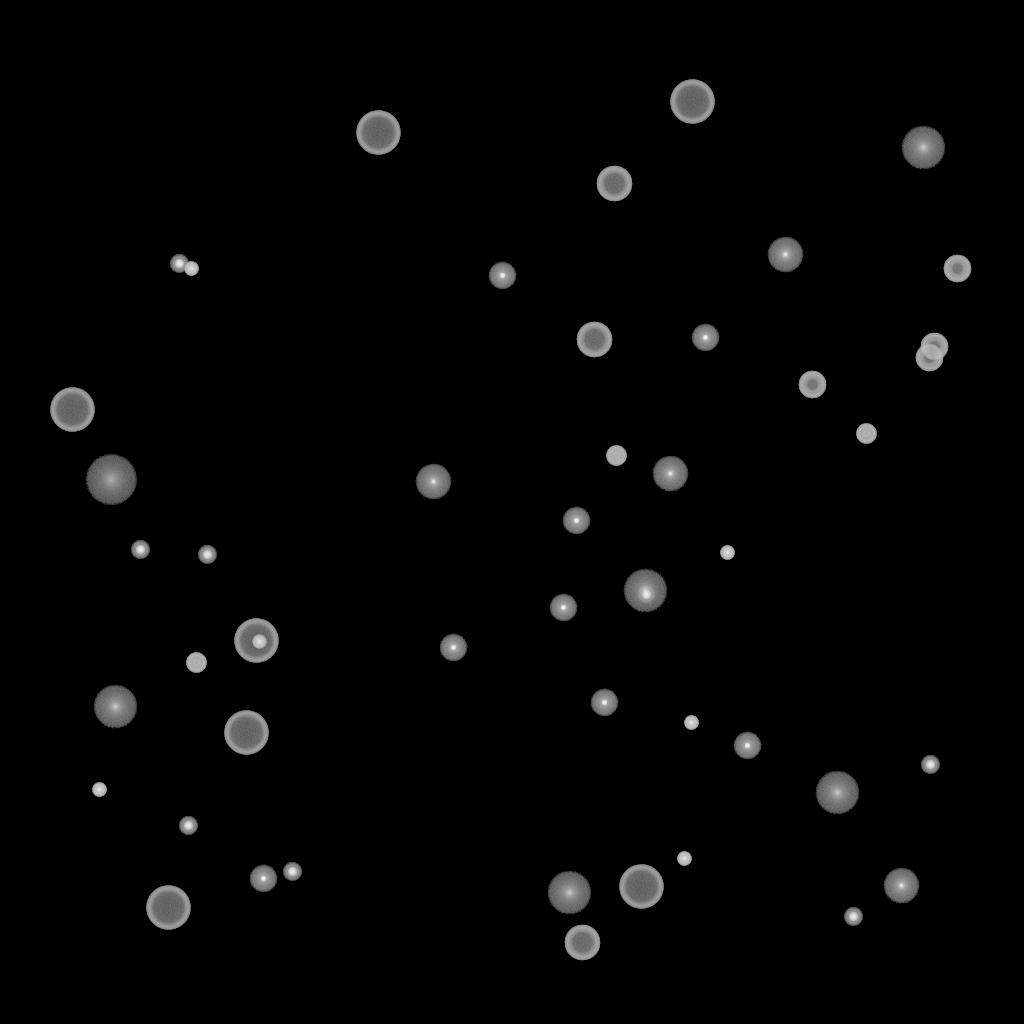depth:-10: (439, 634, 467, 662), (549, 594, 577, 622), (733, 732, 761, 760), (562, 507, 590, 535), (590, 689, 618, 717), (488, 262, 516, 290), (691, 324, 719, 352), (249, 865, 277, 893)
depth:-20: (170, 255, 188, 273), (198, 546, 216, 564), (179, 817, 197, 835), (637, 586, 655, 604), (921, 756, 939, 774), (131, 541, 149, 559), (283, 863, 301, 881), (844, 908, 862, 926)
depth:-30: (252, 635, 266, 649), (720, 546, 734, 560), (92, 783, 106, 797), (684, 716, 698, 730), (677, 852, 691, 866), (184, 262, 198, 276)
depth:-40: (186, 653, 206, 673), (856, 424, 876, 444), (606, 446, 626, 466)
depth:-50: (798, 371, 826, 399), (943, 255, 971, 283), (920, 333, 948, 361), (915, 344, 943, 372)
depth:-60: (596, 166, 632, 202), (564, 925, 600, 961), (576, 322, 612, 358)
depth:-70: (146, 886, 190, 930), (619, 865, 663, 909), (670, 80, 714, 124), (224, 711, 268, 755), (50, 388, 94, 432), (356, 111, 400, 155), (234, 619, 278, 663)
depth:0: (652, 456, 688, 492), (415, 464, 451, 500), (883, 868, 919, 904), (767, 237, 803, 273)
depth:10: (623, 569, 667, 613), (901, 126, 945, 170), (547, 871, 591, 915), (93, 685, 137, 729), (815, 771, 859, 815)
depth:20: (85, 455, 137, 505)
